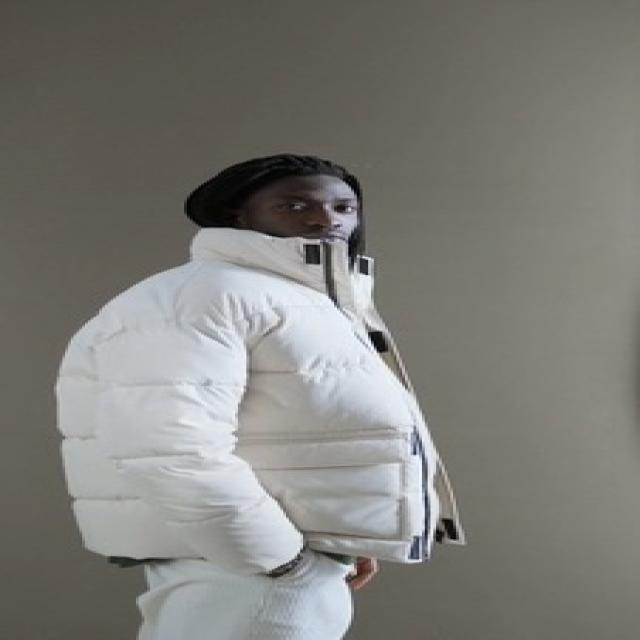Jacket_Wearer: (11, 230, 510, 557)
Person: (39, 139, 487, 633)
